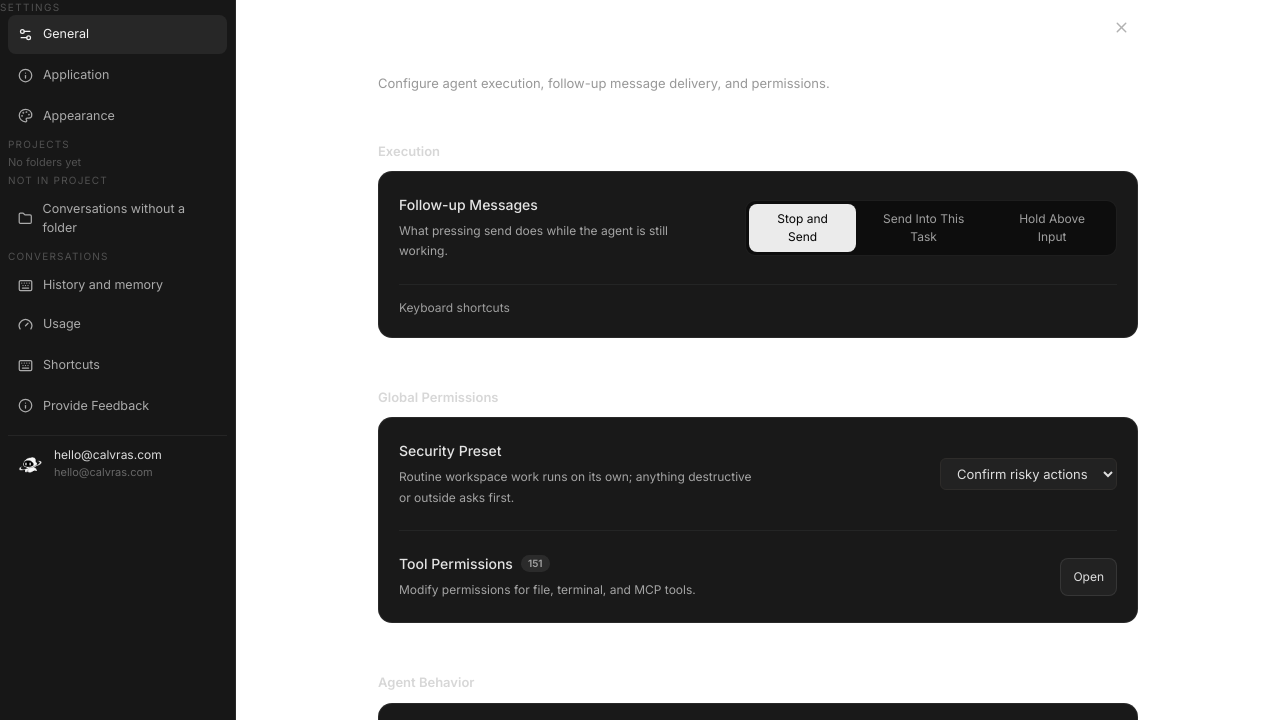
Test: settings › shows the plan the site granted, and that the ledger already knows the account
What coordinates should you click on to do the following:
click the button with aria-label "Account"
I would click on:
 (118, 463)
Its box is [8,435,227,491].
(page scrolled)
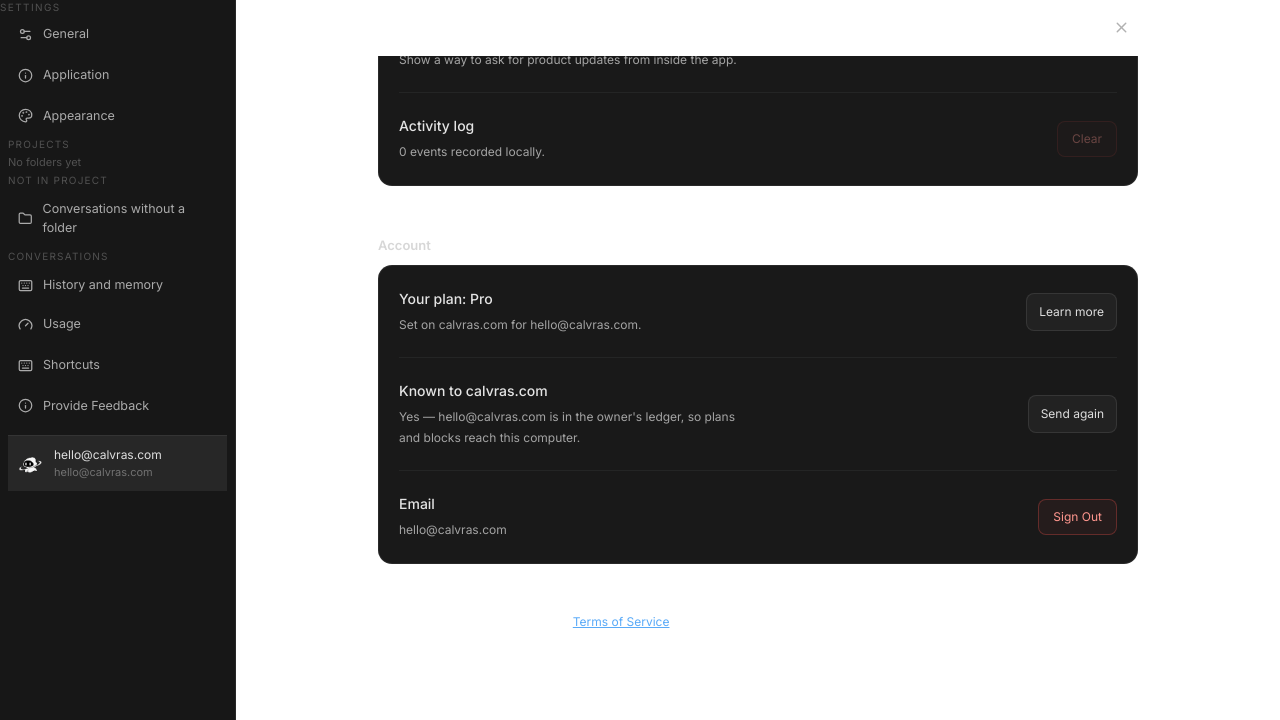
Result: the text "Your plan: Pro" is shown at [399,288,493,309]
Result: the text "hello@calvras.com is in the owner's ledger" is shown at [399,410,735,445]
